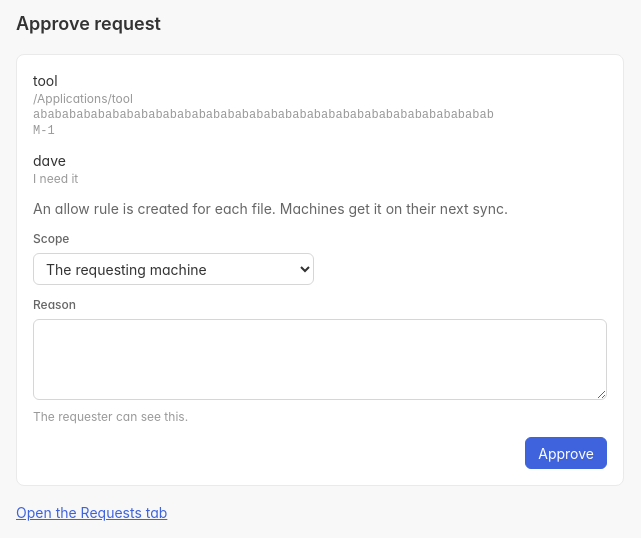
it: DecideLinkPage › shows the request and approves only after the approver confirms
Expected: the text "tool" is shown, [33,72,58,89]
Expected: the text "I need it" is shown, [33,171,78,186]
Click the button "Approve" at {"x": 566, "y": 453}, box [525,437,607,469]
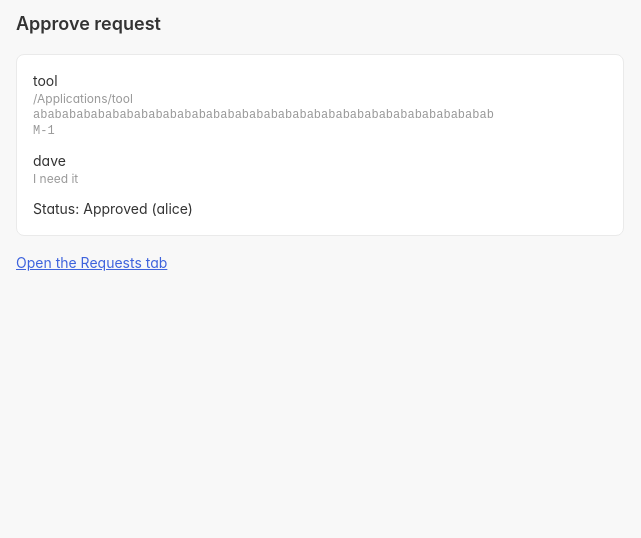
Expected: the message reads "Status: Approved (alice)", [33,200,193,217]
